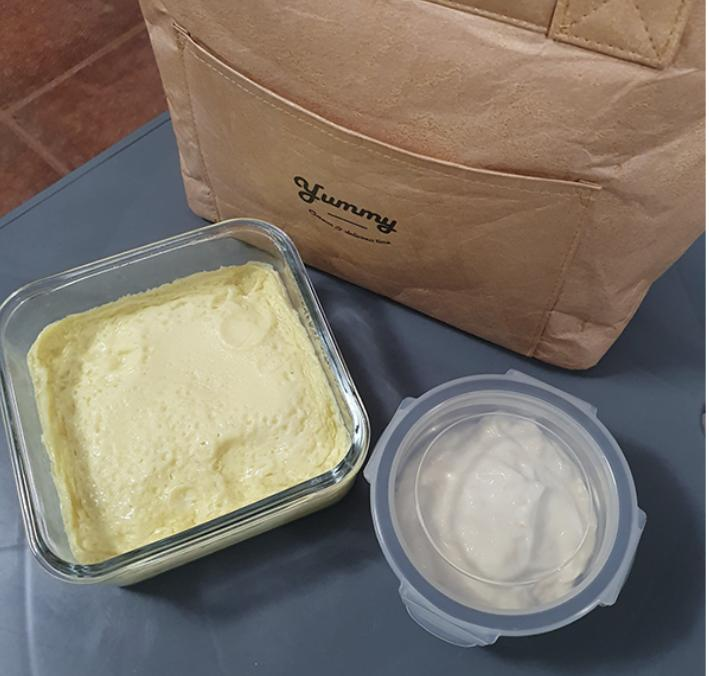Lunch Box: (0, 220, 368, 585)
